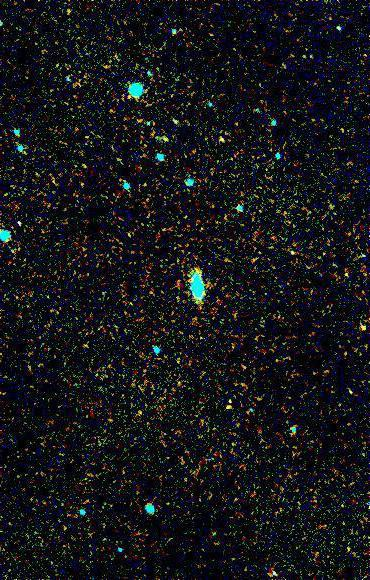star: (351, 314, 370, 344)
